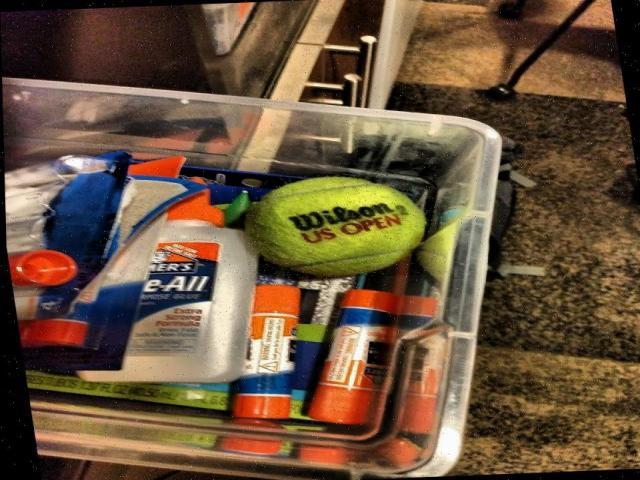tennis-ball: (247, 176, 429, 276)
